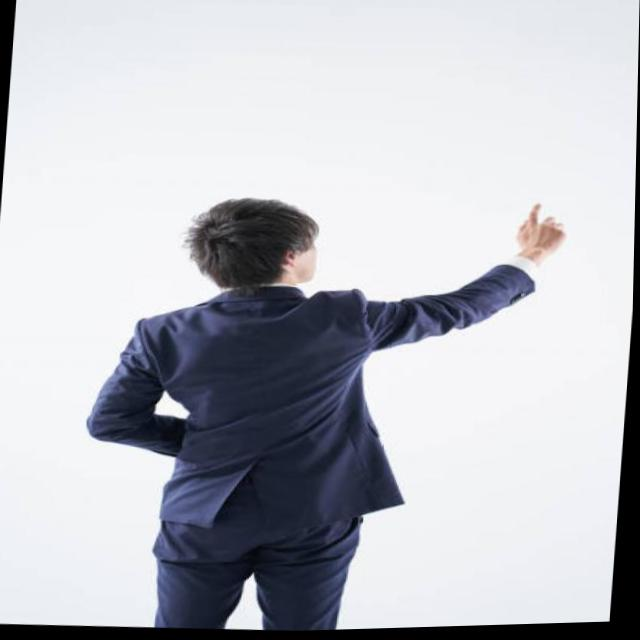no helmet: (181, 195, 306, 287)
